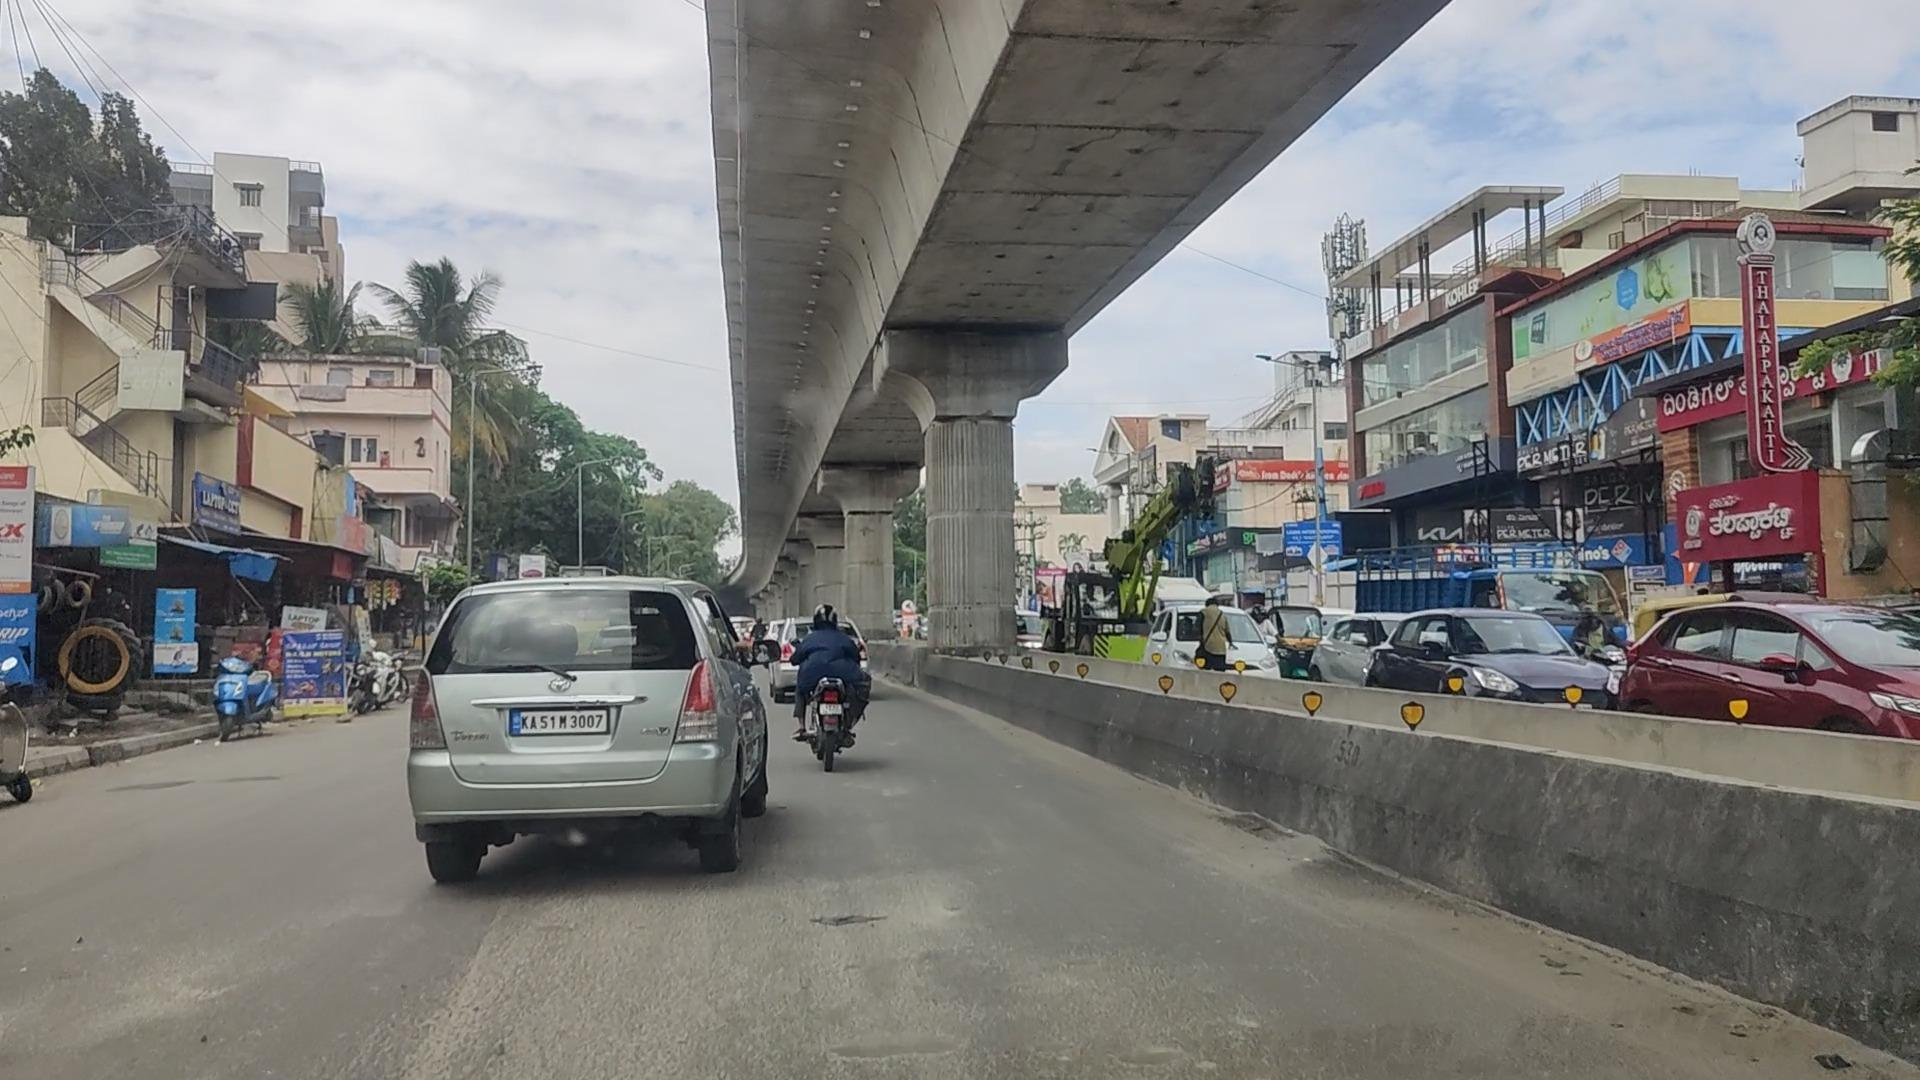LMV: (380, 578, 754, 901), (800, 608, 882, 787)
